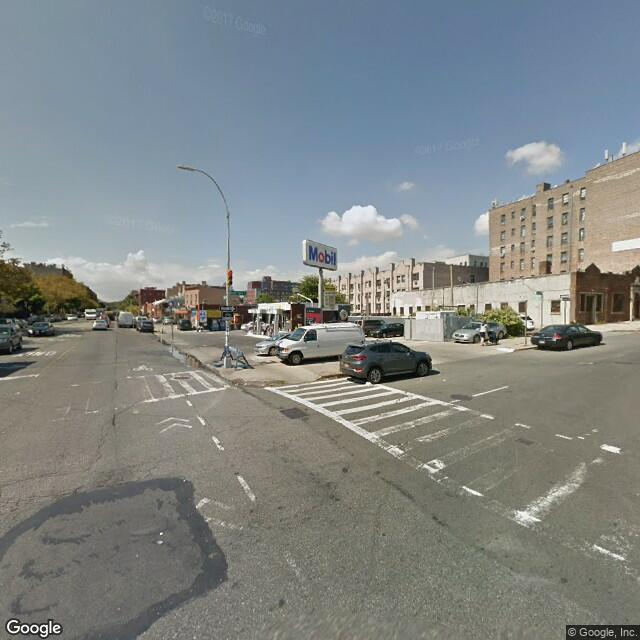litter: (155, 538, 164, 545), (158, 529, 165, 536), (440, 377, 447, 383)
